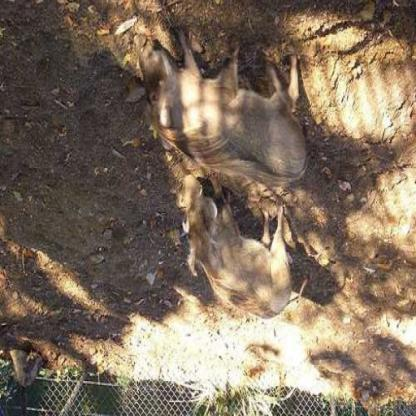boar: (145, 65, 339, 175), (186, 199, 318, 333)
